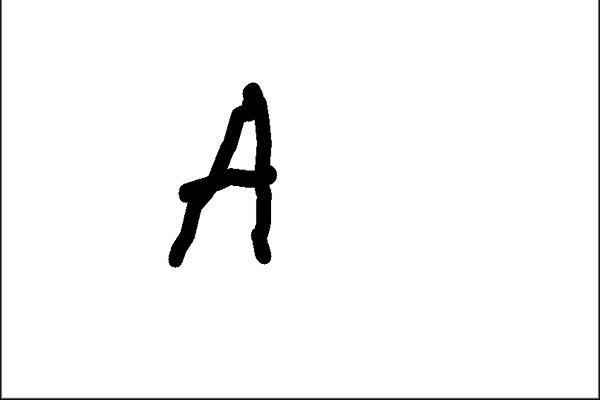A: (153, 79, 284, 269)
